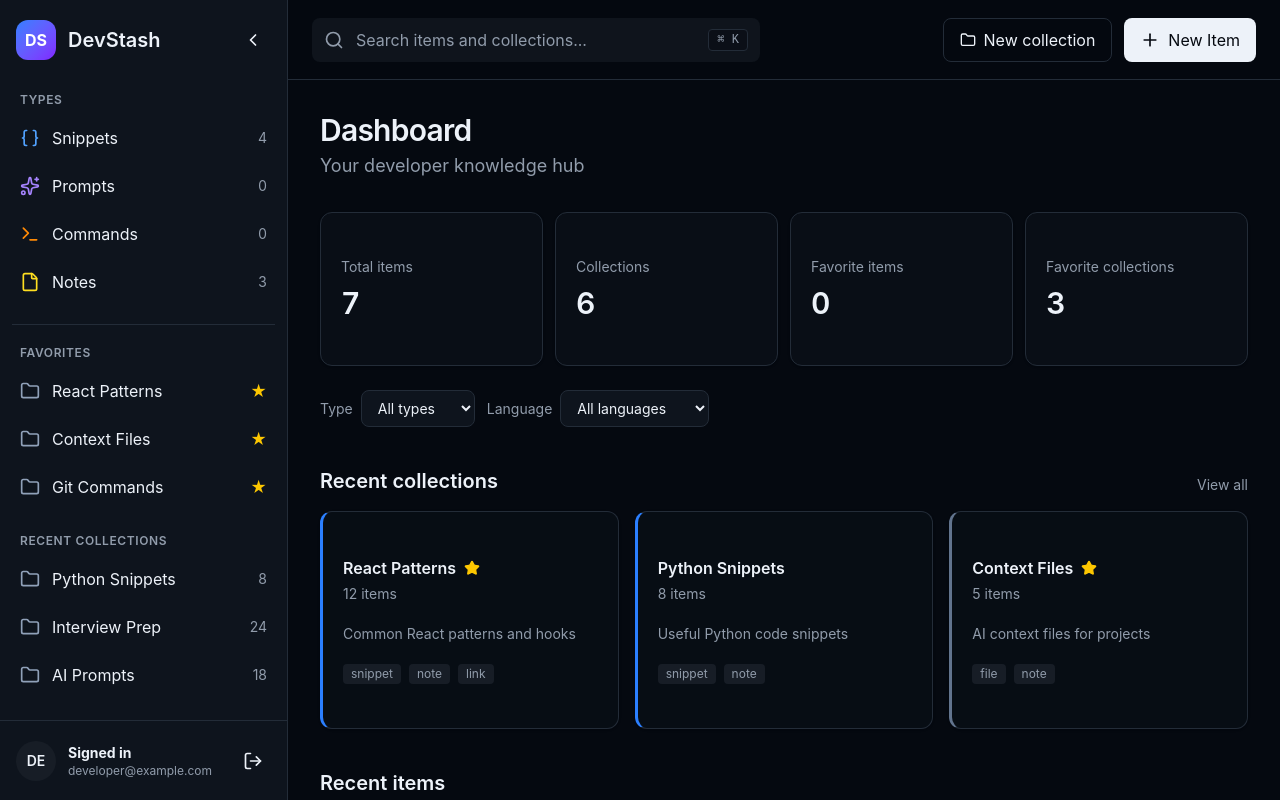
Test: collapses and expands the desktop sidebar
The image size is (1280, 800).
Step 1. Click the button named "Collapse sidebar" → point(253, 40), box [235, 22, 271, 58]
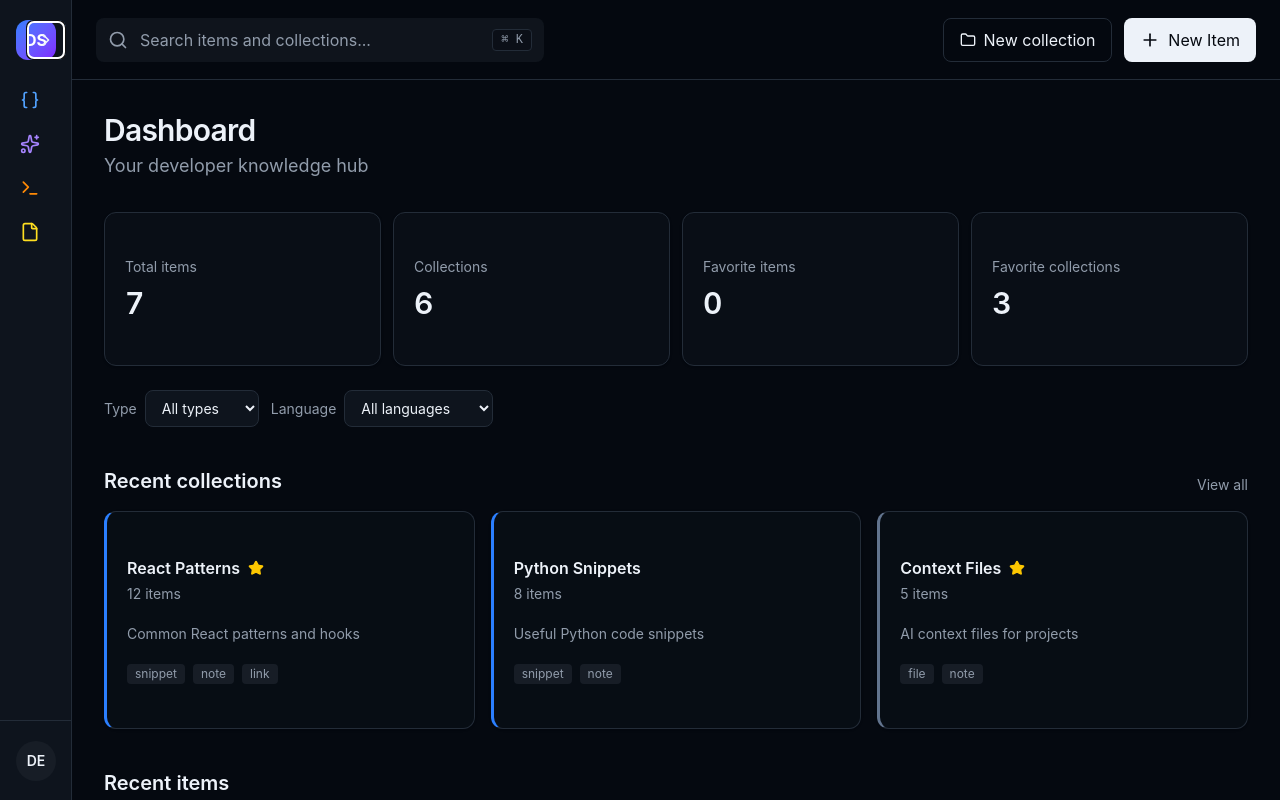
Expected: the button named "Expand sidebar" is shown
Step 2. Click the button named "Expand sidebar" → point(46, 40), box [28, 22, 64, 58]
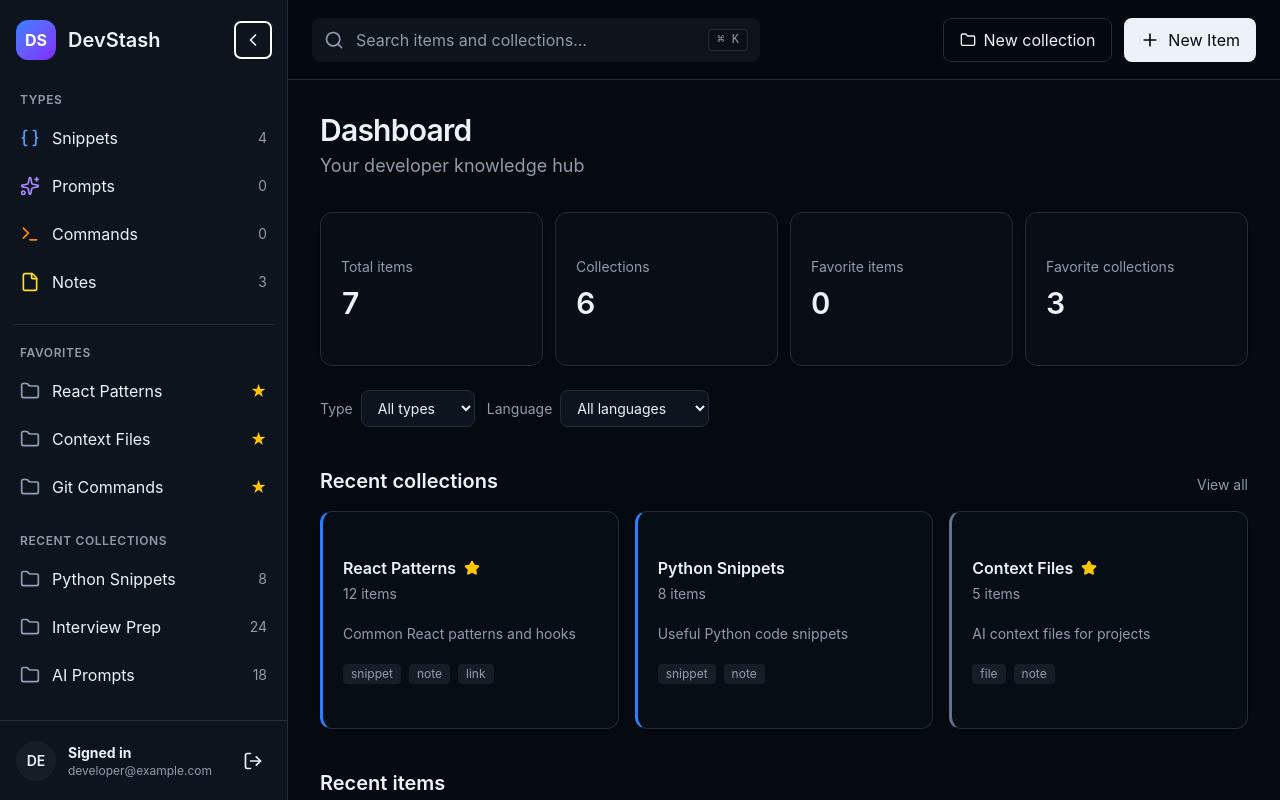
Expected: the button named "Collapse sidebar" is shown, [235, 22, 271, 58]
